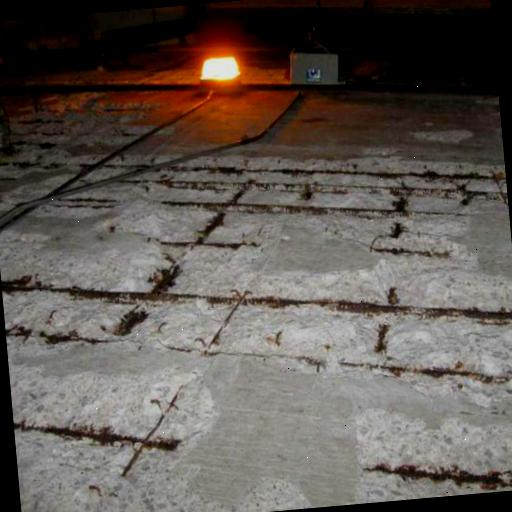spalling: (12, 239, 512, 385), (15, 121, 504, 220), (25, 394, 338, 512), (352, 420, 512, 500)
